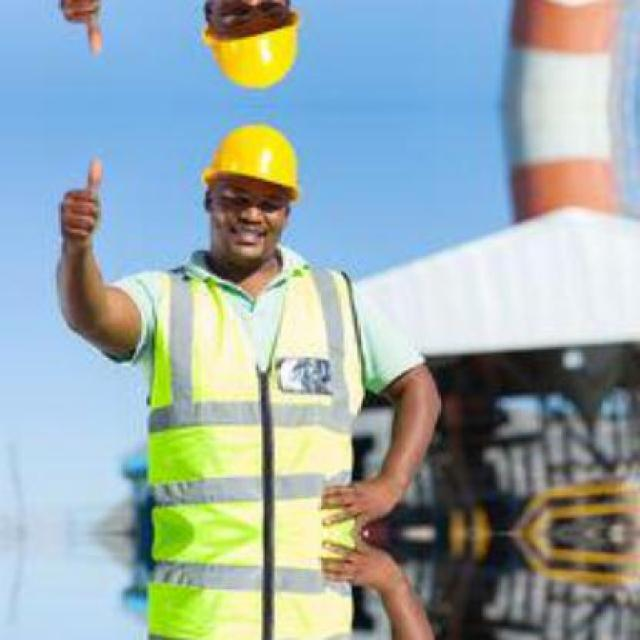helmet: (188, 106, 310, 278), (188, 0, 310, 108)
